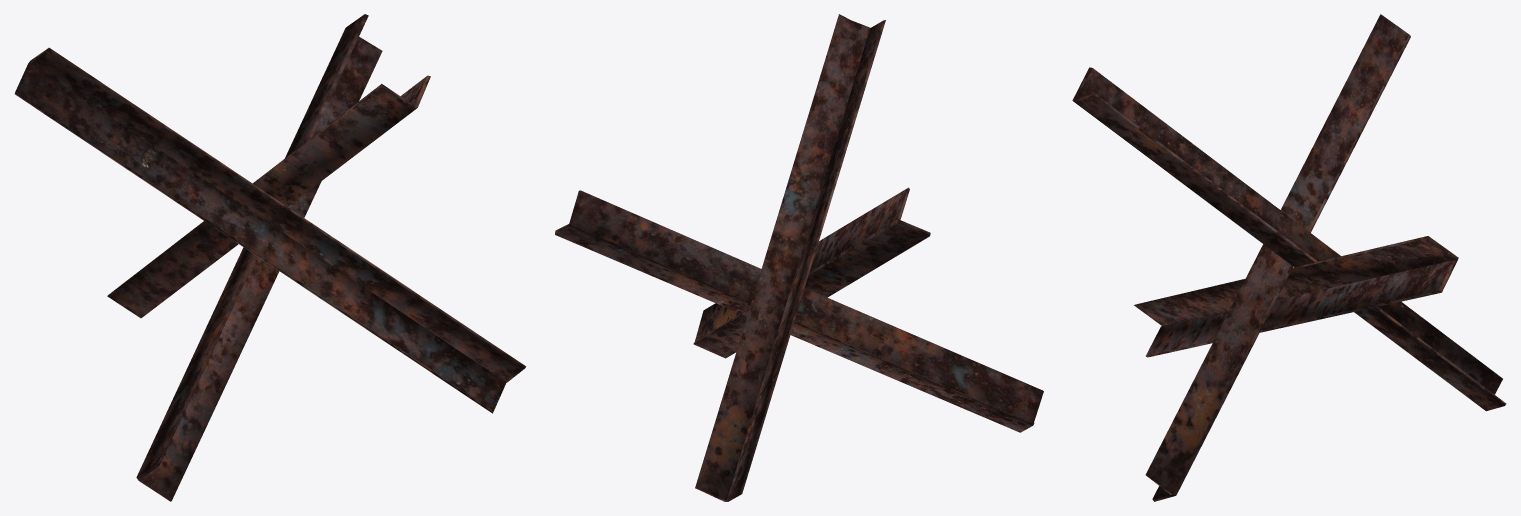
The model's file is czech_hedgehog1.obj.
The picture shows the model from 3 angles, left to right: view 1: azimuth 30°, elevation 25°; view 2: azimuth 150°, elevation 25°; view 3: azimuth 270°, elevation 25°; orthographic projection. The views are drawn at different scales.
Parts seen in each view (by area): view 1: md2->unnamed; view 2: md2->unnamed; view 3: md2->unnamed.
Boxes of the visible parts, x1=… form: md2->unnamed: x1=14, y1=14, x2=526, y2=501; md2->unnamed: x1=555, y1=14, x2=1043, y2=501; md2->unnamed: x1=1072, y1=14, x2=1506, y2=501.
Size of the model in its own units: 57.06 by 54.73 by 57.66.
